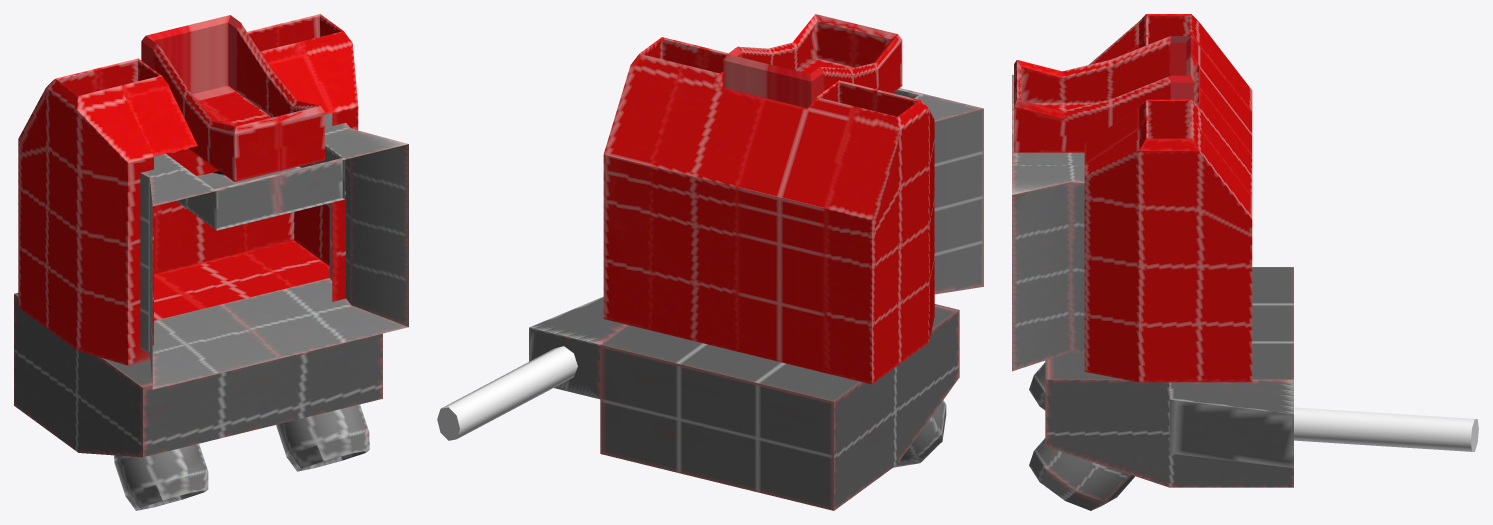
Rendered from UpperBody.fbx.
The picture shows the model from 3 angles, left to right: view 1: azimuth 30°, elevation 25°; view 2: azimuth 150°, elevation 25°; view 3: azimuth 270°, elevation 25°; orthographic projection. The views are drawn at different scales.
Parts seen in each view (by area): view 1: Object002; view 2: Object002; view 3: Object002.
Part boxes in pixels (x1,y1,x2,y2): Object002: (14, 14, 408, 510); Object002: (437, 14, 983, 510); Object002: (1012, 14, 1478, 510).
Bounding box in the file's own units: 7.37 × 9.07 × 9.3.
